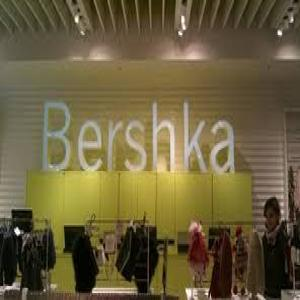bershka: (37, 91, 240, 179)
